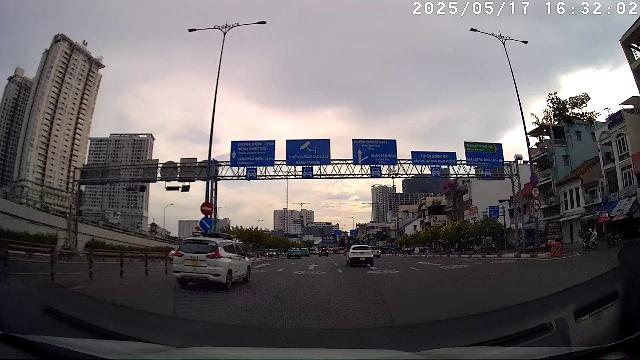127-toc-do-toi-da-60: (532, 187, 540, 197)
